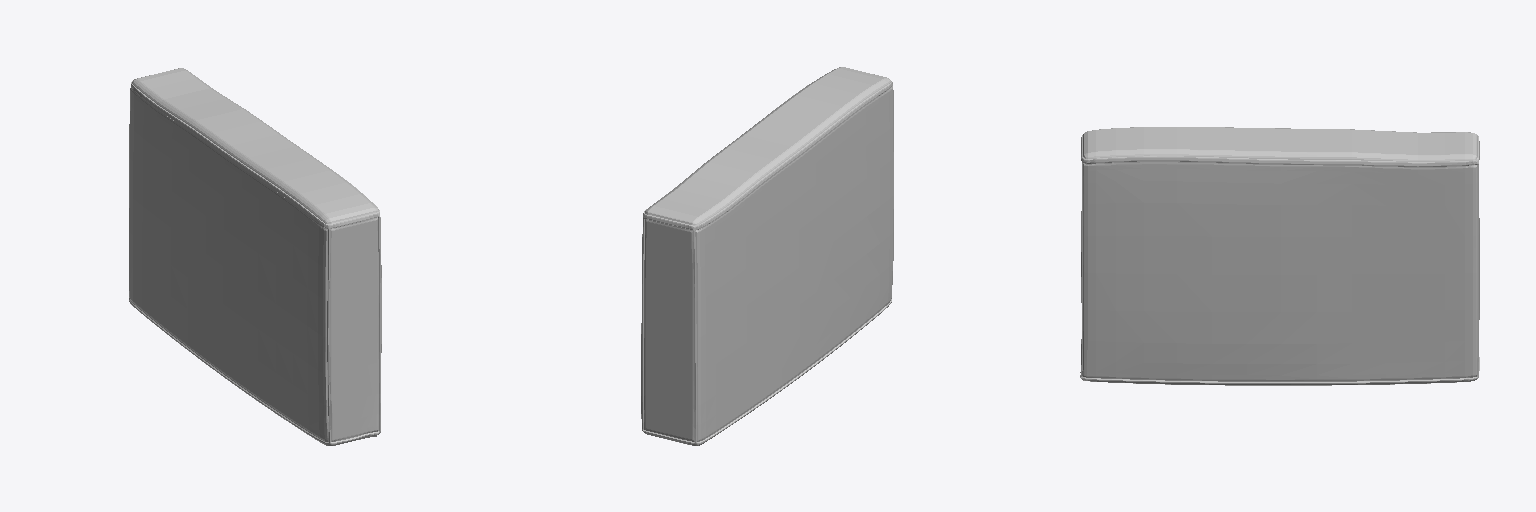
Rendered from couch-side-left.obj.
The picture shows the model from 3 angles: view 1: azimuth 30°, elevation 25°; view 2: azimuth 150°, elevation 25°; view 3: azimuth 270°, elevation 25°; orthographic projection.
Parts seen in each view (by area): view 1: 4_left_Untitled.006; view 2: 4_left_Untitled.006; view 3: 4_left_Untitled.006.
Part boxes in pixels (bbox=[...]): 4_left_Untitled.006: bbox=[129, 68, 381, 445]; 4_left_Untitled.006: bbox=[641, 67, 893, 445]; 4_left_Untitled.006: bbox=[1080, 127, 1479, 385].
Size of the model in its own units: 0.382 by 1.32 by 2.02.